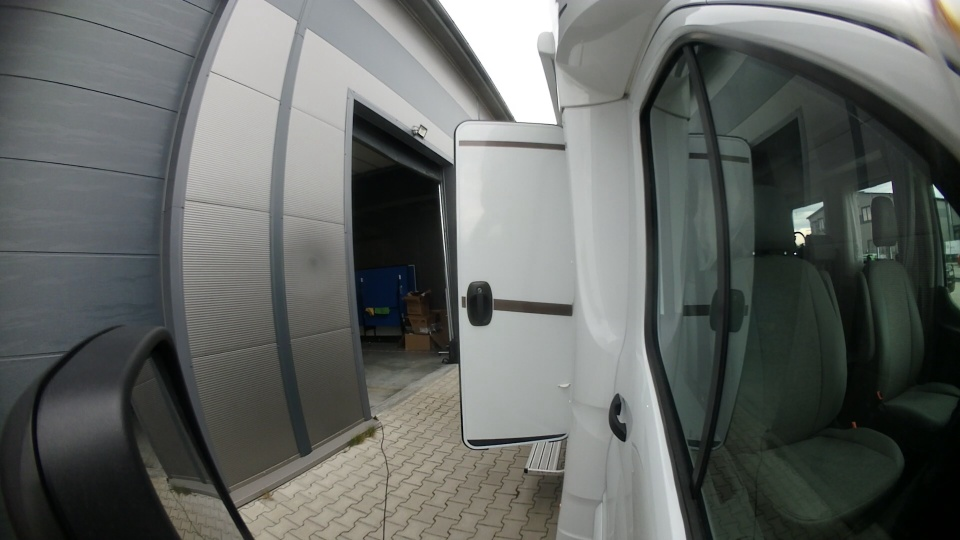door_front: (444, 109, 585, 450)
step_front: (522, 430, 575, 482)
